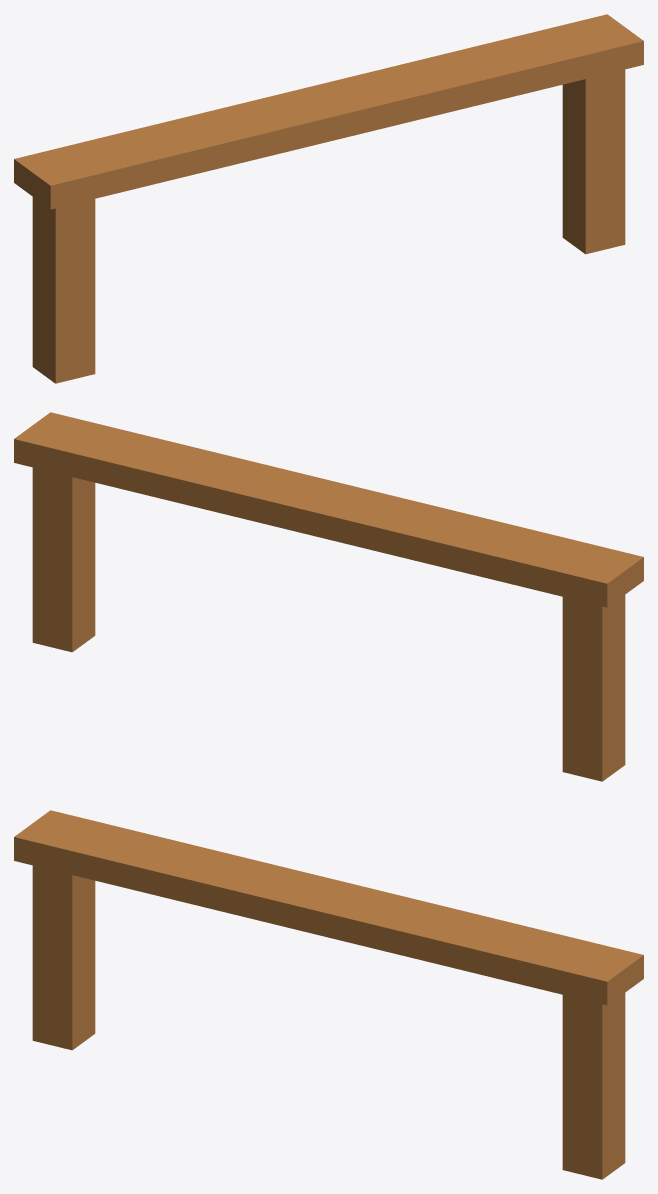
File: fence_simpleHigh.glb
3 renders of one model, top to bottom at view 1: azimuth 30°, elevation 25°; view 2: azimuth 150°, elevation 25°; view 3: azimuth 330°, elevation 25°, orthographic.
Parts seen in each view (by area): view 1: fence_simpleHigh; view 2: fence_simpleHigh; view 3: fence_simpleHigh.
Boxes of the visible parts, <box> form: fence_simpleHigh: <box>14,14,643,383</box>; fence_simpleHigh: <box>14,412,643,781</box>; fence_simpleHigh: <box>14,810,643,1179</box>.
Bounding box in the file's own units: 1.04 × 0.345 × 0.1112.
